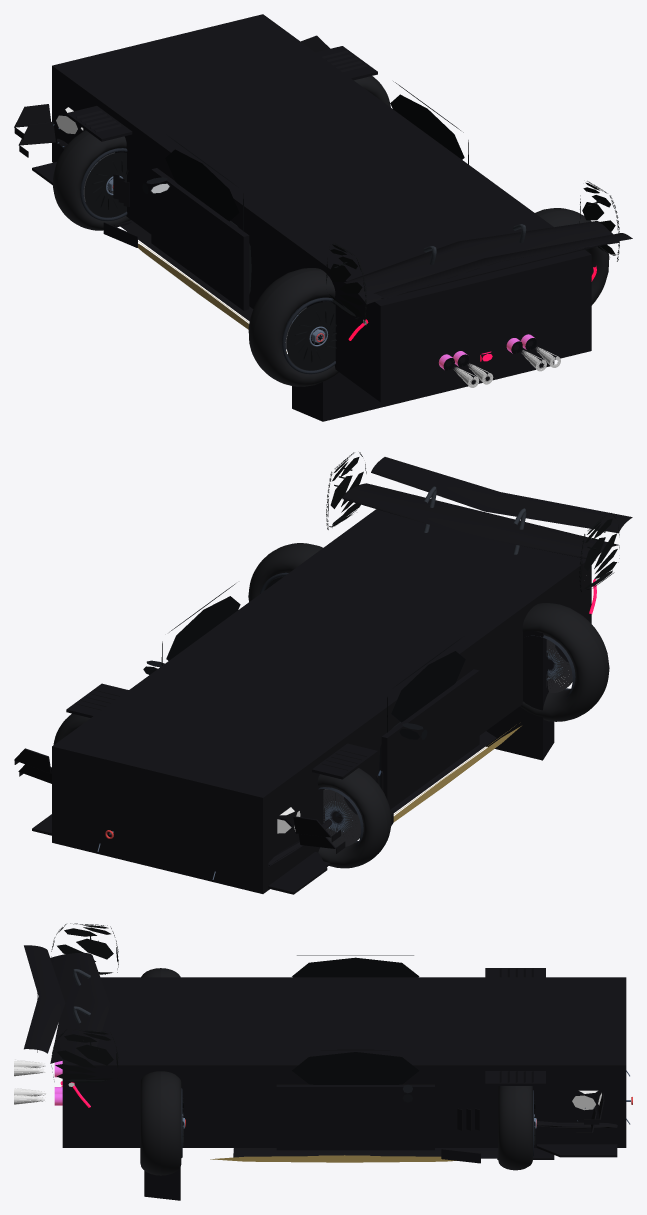
File: vehicle_phantom_forged_carbon_gt.glb
3 views of the same model, one above another, from view 1: azimuth 30°, elevation 25°; view 2: azimuth 150°, elevation 25°; view 3: azimuth 270°, elevation 25° (orthographic). The views are drawn at different scales.
Parts seen in each view (by area): view 1: ACTIVE_GURNEY_FLAP_LIP, MICHELIN_CUP_2R_TRACK_TIRE.002, DOOR_CONTENT_MESHES, MICHELIN_CUP_2R_TRACK_TIRE, AERO_TURBOFAN_COVER.002, AERODYNAMIC_ENDPLATE_ASSEMBLY, AERO_TURBOFAN_COVER, QUAD_EXHAUST_INCONEL_TITANIUM_ASSEMBLY, MICHELIN_CUP_2R_TRACK_TIRE.003, SEALING_SKIRT_LEFT, FORGED_MAGNESIUM_RIM.002, FORGED_MAGNESIUM_RIM; view 2: ACTIVE_GURNEY_FLAP_LIP, MICHELIN_CUP_2R_TRACK_TIRE.002, DOOR_CONTENT_MESHES, MICHELIN_CUP_2R_TRACK_TIRE, AERODYNAMIC_ENDPLATE_ASSEMBLY, MICHELIN_CUP_2R_TRACK_TIRE.003, FLOATING_CSIC_BRAKE_ROTOR, SEALING_SKIRT_LEFT, FLOATING_CSIC_BRAKE_ROTOR.002, FORGED_MAGNESIUM_RIM; view 3: ACTIVE_GURNEY_FLAP_LIP, DOOR_CONTENT_MESHES, MICHELIN_CUP_2R_TRACK_TIRE.003, AERODYNAMIC_ENDPLATE_ASSEMBLY, MICHELIN_CUP_2R_TRACK_TIRE.001, SEALING_SKIRT_LEFT, QUAD_EXHAUST_INCONEL_TITANIUM_ASSEMBLY, FRONT_MATRIX_HEADLIGHT_CLUSTER.
Part boxes in pixels (x1=…): ACTIVE_GURNEY_FLAP_LIP: x1=14, y1=14, x2=632, y2=421; MICHELIN_CUP_2R_TRACK_TIRE.002: x1=248, y1=268, x2=338, y2=386; DOOR_CONTENT_MESHES: x1=142, y1=81, x2=468, y2=293; MICHELIN_CUP_2R_TRACK_TIRE: x1=53, y1=130, x2=130, y2=230; AERO_TURBOFAN_COVER.002: x1=286, y1=302, x2=336, y2=370; AERODYNAMIC_ENDPLATE_ASSEMBLY: x1=326, y1=181, x2=619, y2=323; AERO_TURBOFAN_COVER: x1=84, y1=152, x2=128, y2=217; QUAD_EXHAUST_INCONEL_TITANIUM_ASSEMBLY: x1=438, y1=334, x2=560, y2=387; MICHELIN_CUP_2R_TRACK_TIRE.003: x1=535, y1=208, x2=609, y2=305; SEALING_SKIRT_LEFT: x1=138, y1=241, x2=286, y2=352; FORGED_MAGNESIUM_RIM.002: x1=282, y1=297, x2=335, y2=374; FORGED_MAGNESIUM_RIM: x1=80, y1=148, x2=127, y2=221; ACTIVE_GURNEY_FLAP_LIP: x1=14, y1=457, x2=632, y2=894; MICHELIN_CUP_2R_TRACK_TIRE.002: x1=520, y1=603, x2=609, y2=721; DOOR_CONTENT_MESHES: x1=143, y1=583, x2=465, y2=788; MICHELIN_CUP_2R_TRACK_TIRE: x1=317, y1=768, x2=391, y2=868; AERODYNAMIC_ENDPLATE_ASSEMBLY: x1=326, y1=452, x2=619, y2=591; MICHELIN_CUP_2R_TRACK_TIRE.003: x1=248, y1=543, x2=322, y2=601; FLOATING_CSIC_BRAKE_ROTOR: x1=323, y1=789, x2=360, y2=846; SEALING_SKIRT_LEFT: x1=393, y1=726, x2=521, y2=822; FLOATING_CSIC_BRAKE_ROTOR.002: x1=546, y1=639, x2=572, y2=692; FORGED_MAGNESIUM_RIM: x1=318, y1=787, x2=363, y2=850; ACTIVE_GURNEY_FLAP_LIP: x1=24, y1=945, x2=626, y2=1200; DOOR_CONTENT_MESHES: x1=292, y1=955, x2=419, y2=1102; MICHELIN_CUP_2R_TRACK_TIRE.003: x1=140, y1=1071, x2=181, y2=1175; AERODYNAMIC_ENDPLATE_ASSEMBLY: x1=51, y1=923, x2=118, y2=1082; MICHELIN_CUP_2R_TRACK_TIRE.001: x1=498, y1=1086, x2=532, y2=1170; SEALING_SKIRT_LEFT: x1=210, y1=1155, x2=456, y2=1162; QUAD_EXHAUST_INCONEL_TITANIUM_ASSEMBLY: x1=14, y1=1059, x2=62, y2=1105; FRONT_MATRIX_HEADLIGHT_CLUSTER: x1=68, y1=1082, x2=601, y2=1110.
Bounding box in the file's own units: 2.75 × 1.5 × 4.89.
